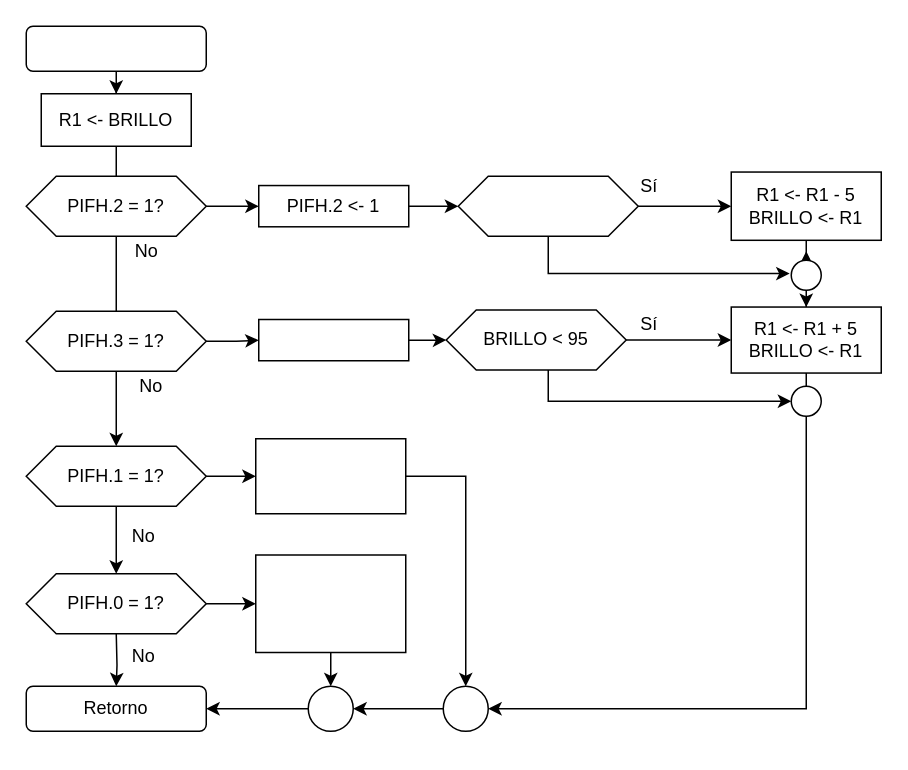
Some shapes in this 908 by 770 pixel diagram are drawn without their labels. Here are the shapes that lost their labels. From the top down, the centre of each, then its label:
At point (115, 48): "PTH_ISR".
At point (547, 205): "BRILLO > 5".
At point (333, 339): "PIFH.3 <- 1".
At point (330, 475): "PIFH.1 <- 1 AcmPQ <- 0".
At point (330, 603): "PIFH.0 <- 1 CUENTA <- 0 PORTE.2 <- 0 CRGINT <- $80".
